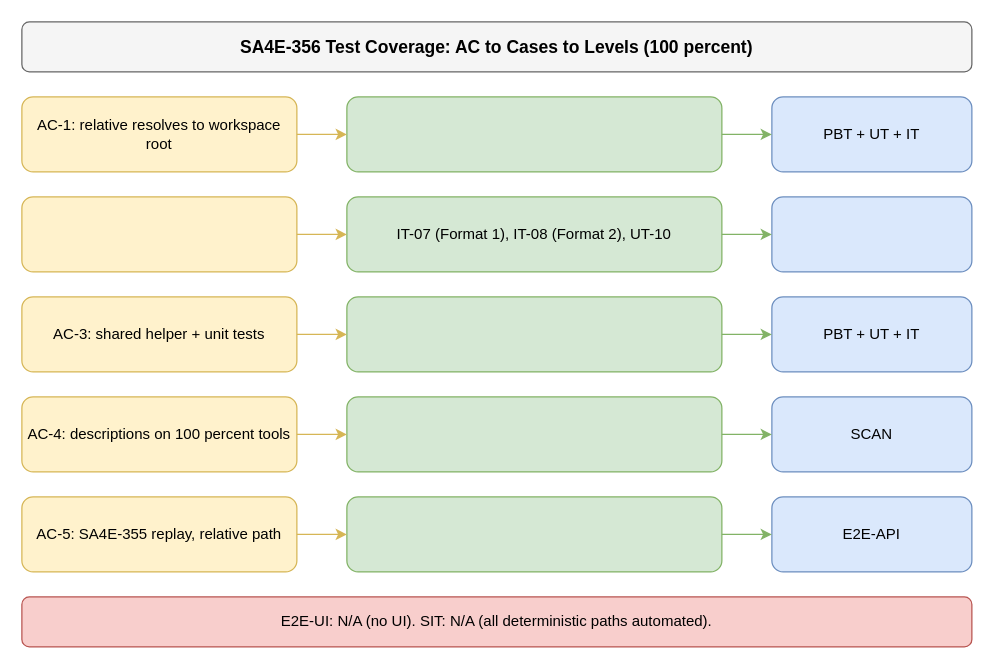
The diagram is 994 pixels wide and 669 high, and some of its shapes have lost their labels. Each missing label, with the centre of its shape:
"AC-2: error carries resolved path + hint" goes at (x=159, y=234).
"E2E-API-01 (REG-1), E2E-API-02 (REG-2)" goes at (x=534, y=534).
"IT" goes at (x=871, y=234).
"PBT-01..04, UT-01..09, IT-01..06" goes at (x=534, y=334).
"PBT-01/02, UT-01/02/05/06, IT-01..06" goes at (x=534, y=134).
"SCAN-01 (4 surfaces, N-5), SCAN-02 (N-8)" goes at (x=534, y=434).
